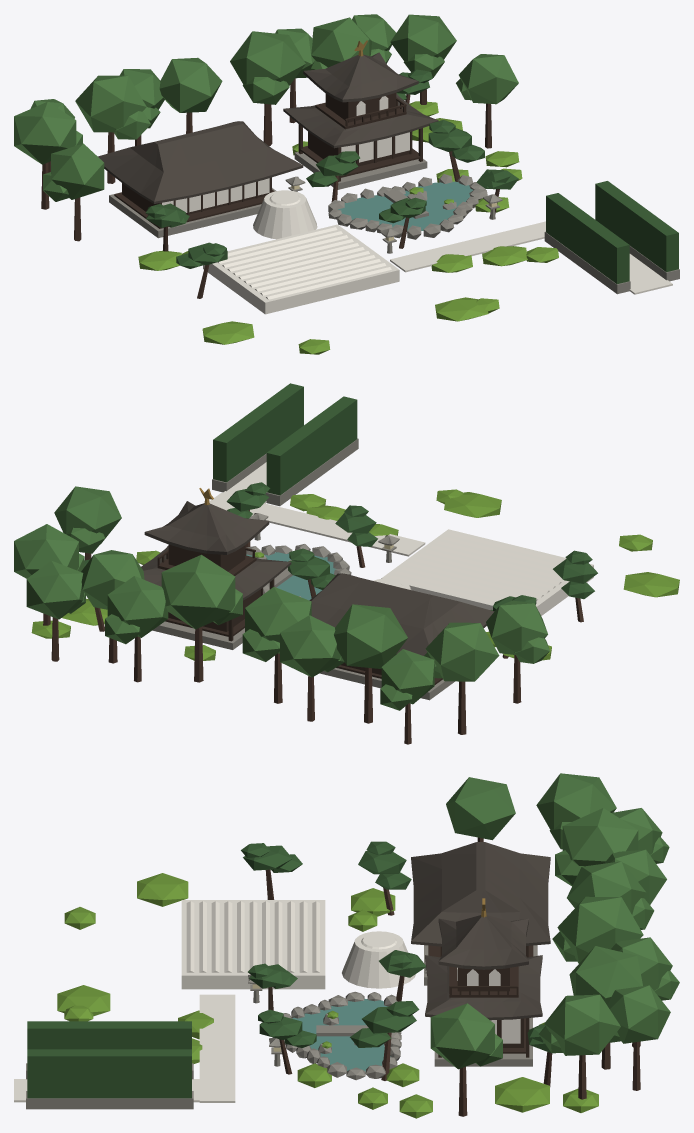
The model's file is ginkaku-ji.glb.
The picture shows the model from 3 angles, top to bottom: view 1: azimuth 30°, elevation 25°; view 2: azimuth 150°, elevation 25°; view 3: azimuth 270°, elevation 25°; orthographic projection. The views are drawn at different scales.
Parts seen in each view (by area): view 1: ginkaku_leaf, ginkaku_shingle, ginkaku_sand, ginkaku_pine, ginkaku_rock, ginkaku_moss, ginkaku_darkwood, ginkaku_bark, ginkaku_water, ginkaku_white; view 2: ginkaku_leaf, ginkaku_pine, ginkaku_sand, ginkaku_shingle, ginkaku_moss, ginkaku_rock, ginkaku_bark, ginkaku_darkwood, ginkaku_water; view 3: ginkaku_leaf, ginkaku_pine, ginkaku_sand, ginkaku_shingle, ginkaku_moss, ginkaku_rock, ginkaku_water, ginkaku_bark, ginkaku_darkwood, ginkaku_white.
Boxes of the visible parts, x1,y1,x2,y2 form: ginkaku_leaf: [14, 14, 518, 201]; ginkaku_shingle: [98, 52, 438, 203]; ginkaku_sand: [203, 190, 672, 314]; ginkaku_pine: [145, 69, 678, 284]; ginkaku_rock: [109, 151, 679, 294]; ginkaku_moss: [138, 101, 558, 354]; ginkaku_darkwood: [114, 93, 422, 228]; ginkaku_bark: [41, 78, 499, 298]; ginkaku_water: [338, 181, 473, 230]; ginkaku_white: [162, 96, 409, 212]; ginkaku_leaf: [14, 486, 549, 710]; ginkaku_pine: [84, 383, 597, 611]; ginkaku_sand: [209, 462, 593, 615]; ginkaku_shingle: [141, 501, 494, 655]; ginkaku_moss: [31, 489, 679, 660]; ginkaku_rock: [152, 438, 454, 700]; ginkaku_bark: [43, 510, 583, 744]; ginkaku_darkwood: [157, 544, 442, 684]; ginkaku_water: [246, 552, 336, 600]; ginkaku_leaf: [430, 773, 679, 1069]; ginkaku_pine: [27, 841, 551, 1098]; ginkaku_sand: [14, 900, 415, 1102]; ginkaku_shingle: [411, 842, 550, 1020]; ginkaku_moss: [57, 873, 598, 1118]; ginkaku_rock: [26, 945, 537, 1109]; ginkaku_water: [292, 998, 390, 1071]; ginkaku_bark: [265, 837, 640, 1116]; ginkaku_darkwood: [428, 945, 533, 1057]; ginkaku_white: [457, 967, 520, 1043].
Bounding box in the file's own units: 20.61 × 5.57 × 22.25.
